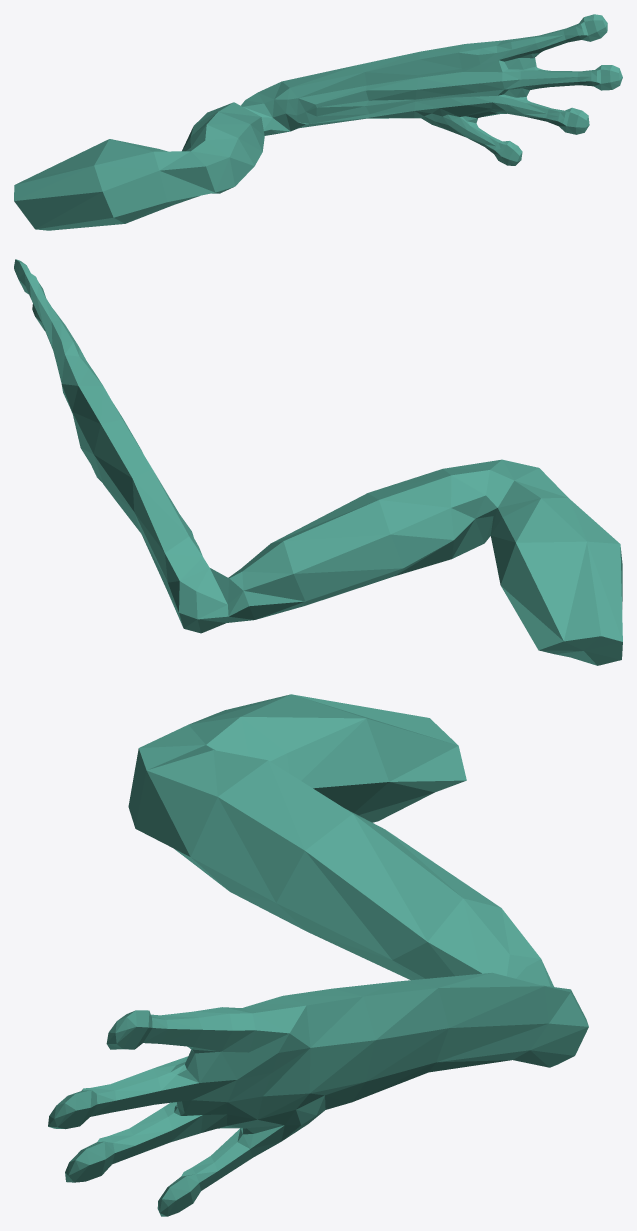
Rendered from IngridientsFrogLegs.fbx.
3 views of the same model, one above another, from view 1: azimuth 30°, elevation 25°; view 2: azimuth 150°, elevation 25°; view 3: azimuth 270°, elevation 25° (orthographic). The views are drawn at different scales.
Parts seen in each view (by area): view 1: Leg; view 2: Leg; view 3: Leg.
Boxes of the visible parts, x1,y1,x2,y2 form: Leg: [14, 14, 622, 230]; Leg: [14, 259, 622, 665]; Leg: [48, 694, 588, 1216].
Size of the model in its own units: 147 by 37.41 by 65.71.
